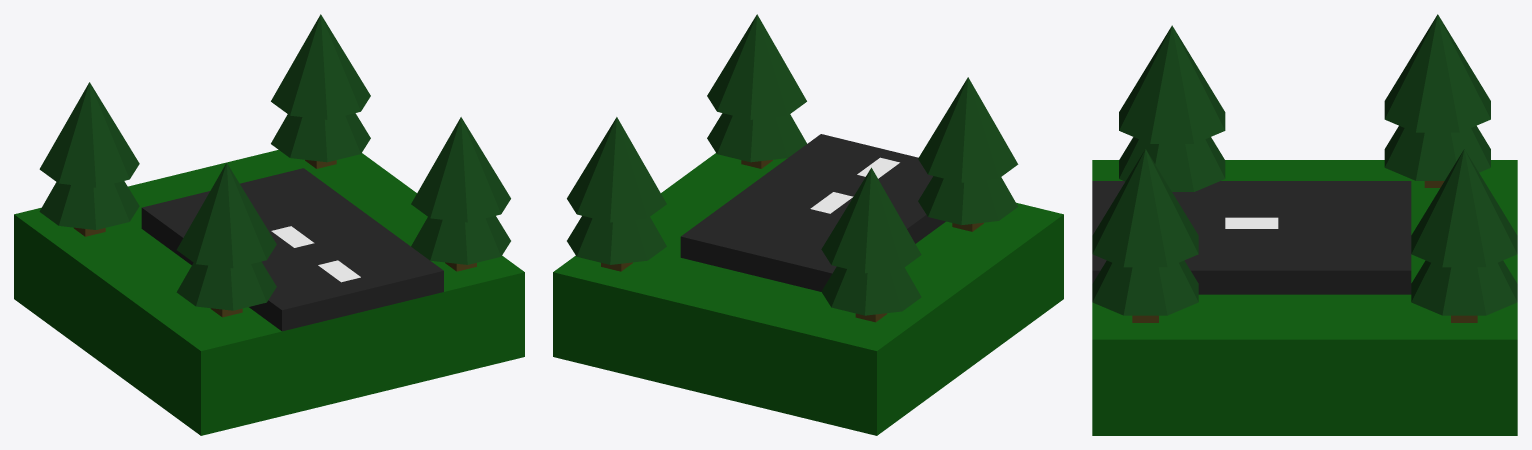
File: end.obj
3 views of the same model, side by side, from view 1: azimuth 30°, elevation 25°; view 2: azimuth 150°, elevation 25°; view 3: azimuth 270°, elevation 25° (orthographic). The views are drawn at different scales.
Parts seen in each view (by area): view 1: grass, cone, road, plane, cylinder; view 2: grass, cone, road, plane, cylinder; view 3: grass, cone, road, plane, cylinder.
Boxes of the visible parts, box(x1,y1,x2,y2) form: grass: box(14, 150, 524, 435); cone: box(39, 14, 510, 310); road: box(141, 168, 443, 331); plane: box(271, 226, 360, 282); cylinder: box(74, 160, 476, 317); grass: box(553, 153, 1063, 435); cone: box(567, 14, 1018, 315); road: box(680, 134, 945, 291); plane: box(810, 157, 899, 213); cylinder: box(601, 160, 983, 322); grass: box(1092, 160, 1517, 435); cone: box(1092, 14, 1517, 315); road: box(1092, 181, 1411, 294); plane: box(1225, 217, 1278, 228); cylinder: box(1132, 181, 1477, 322).
Bounding box in the file's own units: 0.25 × 0.1719 × 0.25.
Materials: 1 (1 with a texture image).
